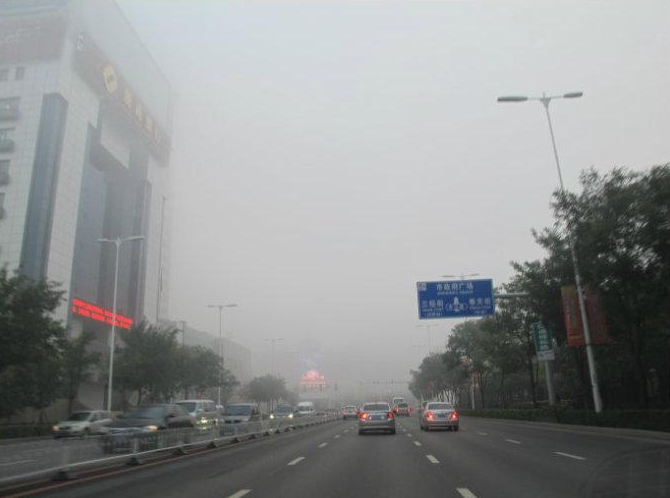bus: (392, 397, 405, 411)
car: (99, 403, 196, 459), (52, 410, 114, 441), (168, 398, 218, 435), (215, 403, 264, 435), (357, 401, 397, 436), (419, 402, 459, 433), (269, 404, 300, 427), (295, 401, 316, 418), (393, 402, 411, 416), (341, 405, 358, 419), (420, 400, 433, 415)
